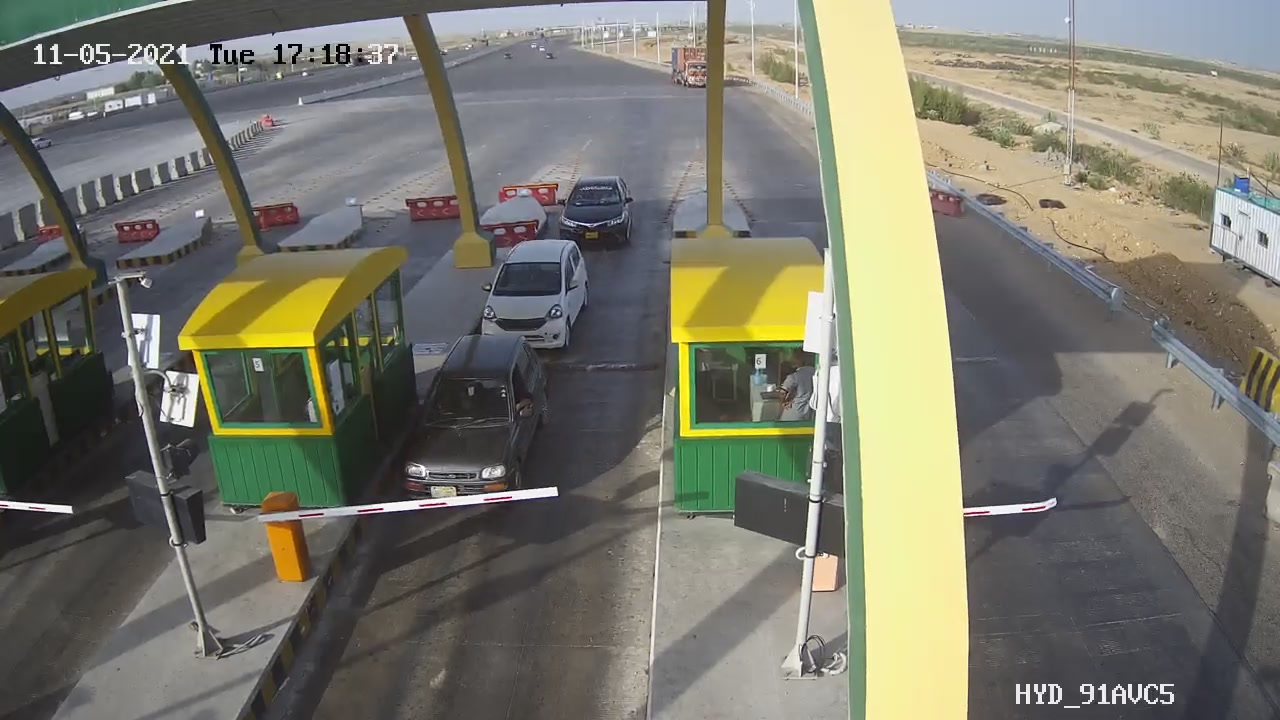F1: (385, 324, 561, 526), (470, 225, 611, 370), (546, 165, 648, 262)
